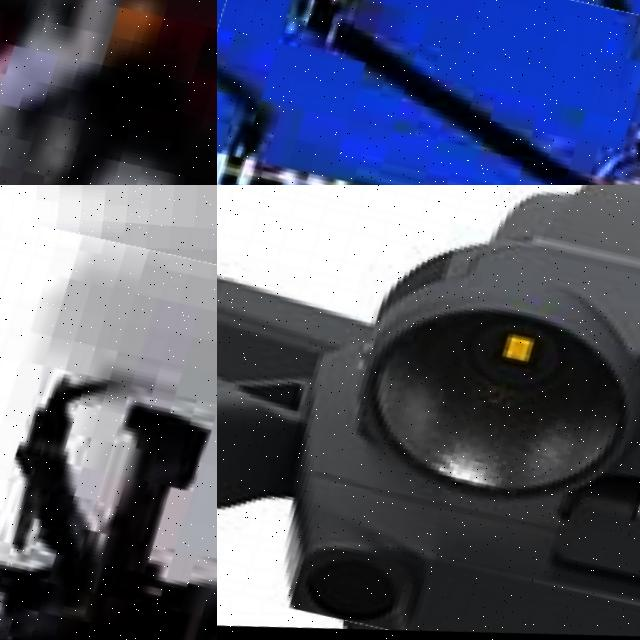0: (0, 194, 217, 640), (217, 0, 640, 185), (0, 0, 217, 185)
drone: (217, 185, 640, 640)
